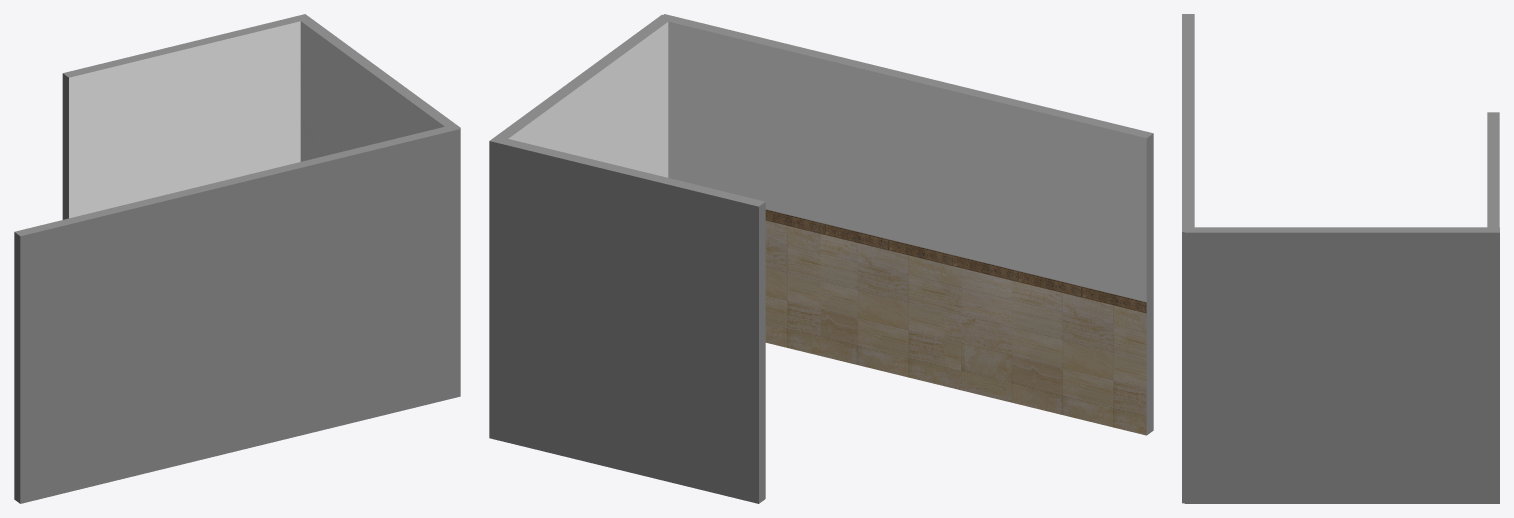
Rendered from Wall 7.FBX.
The picture shows the model from 3 angles, left to right: view 1: azimuth 30°, elevation 25°; view 2: azimuth 150°, elevation 25°; view 3: azimuth 270°, elevation 25°; orthographic projection. The views are drawn at different scales.
Parts seen in each view (by area): view 1: wall 7; view 2: wall 7; view 3: wall 7.
Boxes of the visible parts, bbox=[...] form: wall 7: bbox=[14, 14, 460, 503]; wall 7: bbox=[489, 14, 1153, 503]; wall 7: bbox=[1182, 14, 1499, 503].
Size of the model in its own units: 450 by 261 by 277.
Materials: 2 (1 with a texture image).
